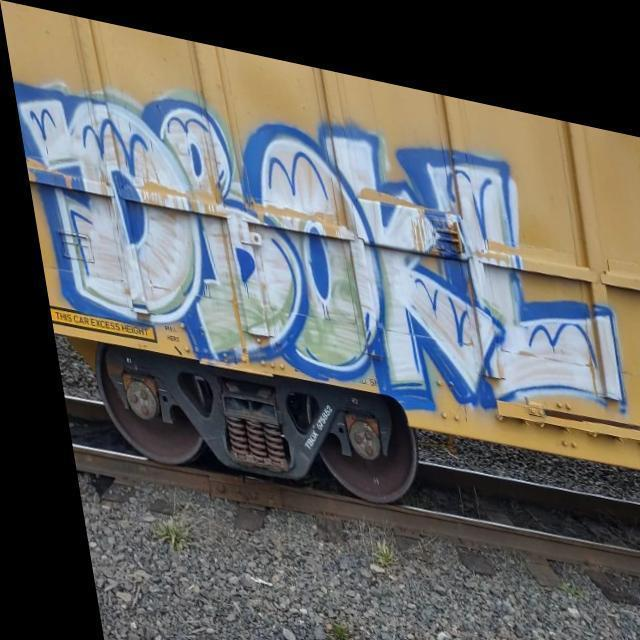nonspitting: (15, 80, 626, 414)
